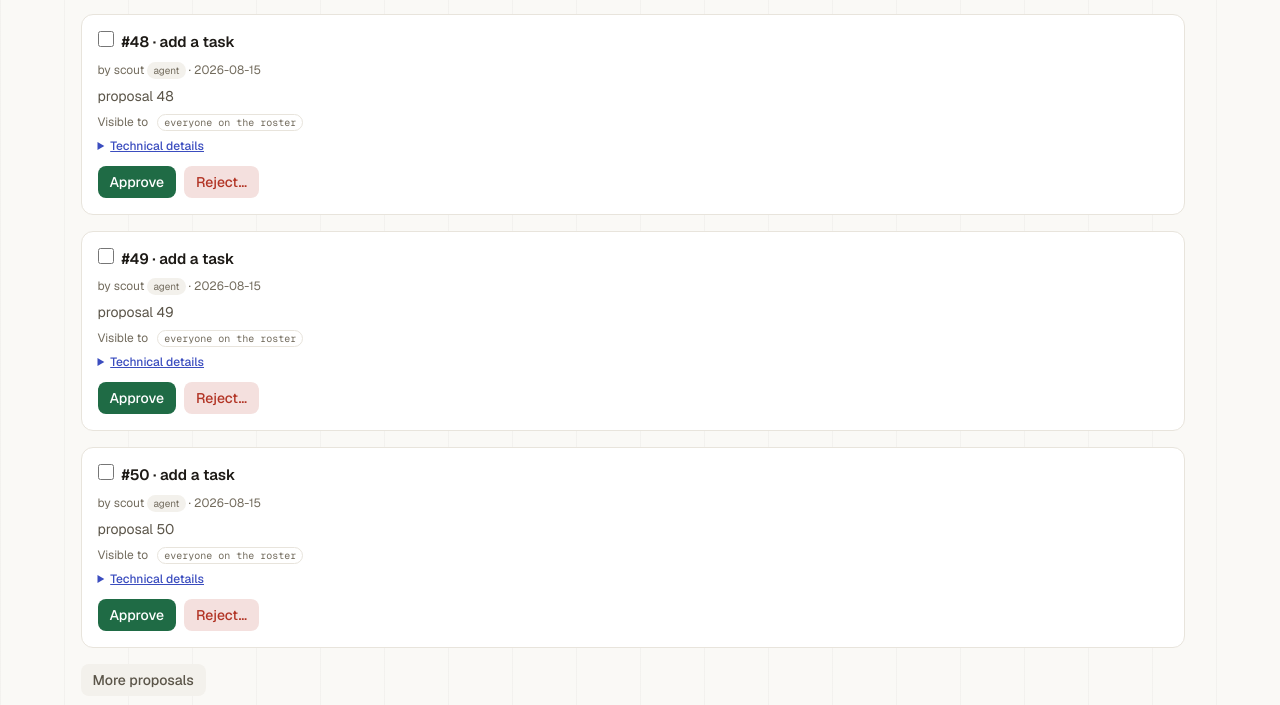
Test: the pending review cursor › keeps the fetched pages after a verdict, and moves focus to the next row
The width and height of the screenshot is (1280, 705).
(page scrolled)
expect the text "proposal 50" is shown: met, box [98,520,174,538]
Click the button "More proposals" at (143, 680), box [80,664,206,696]
(page scrolled)
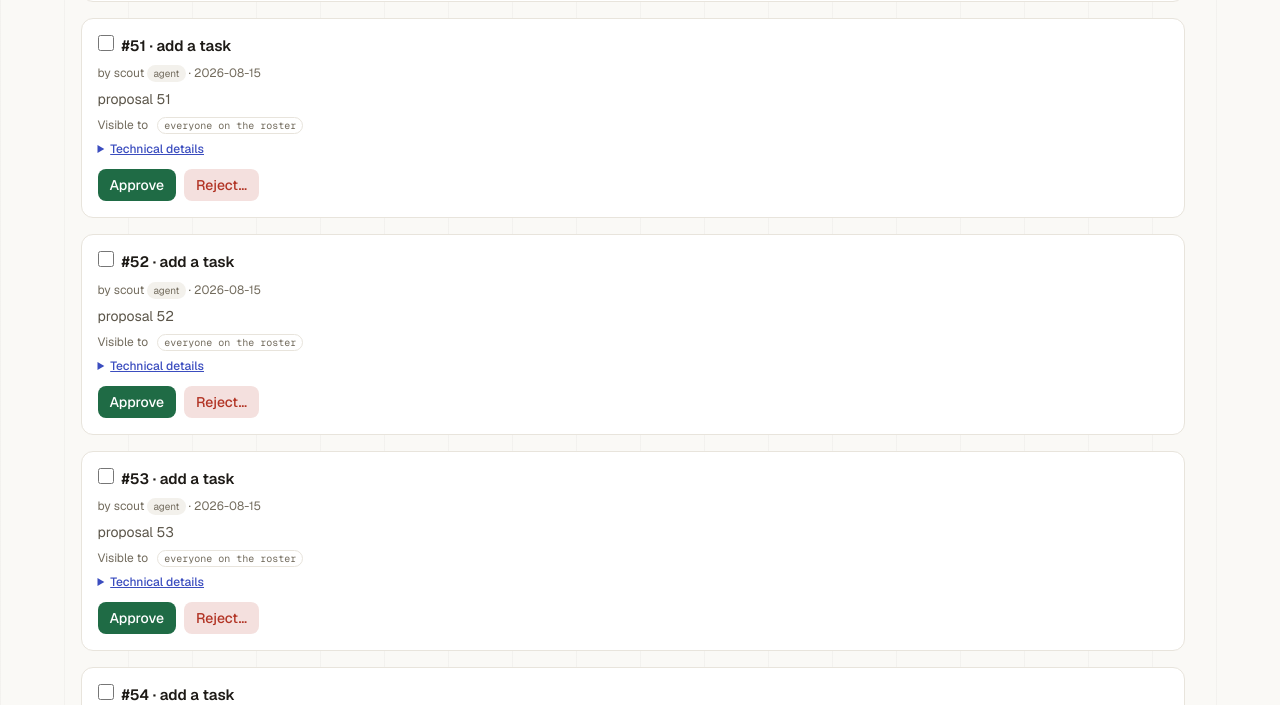
Click the button "Approve" below "proposal 52" at (137, 402), box [98,386,176,418]
(page scrolled)
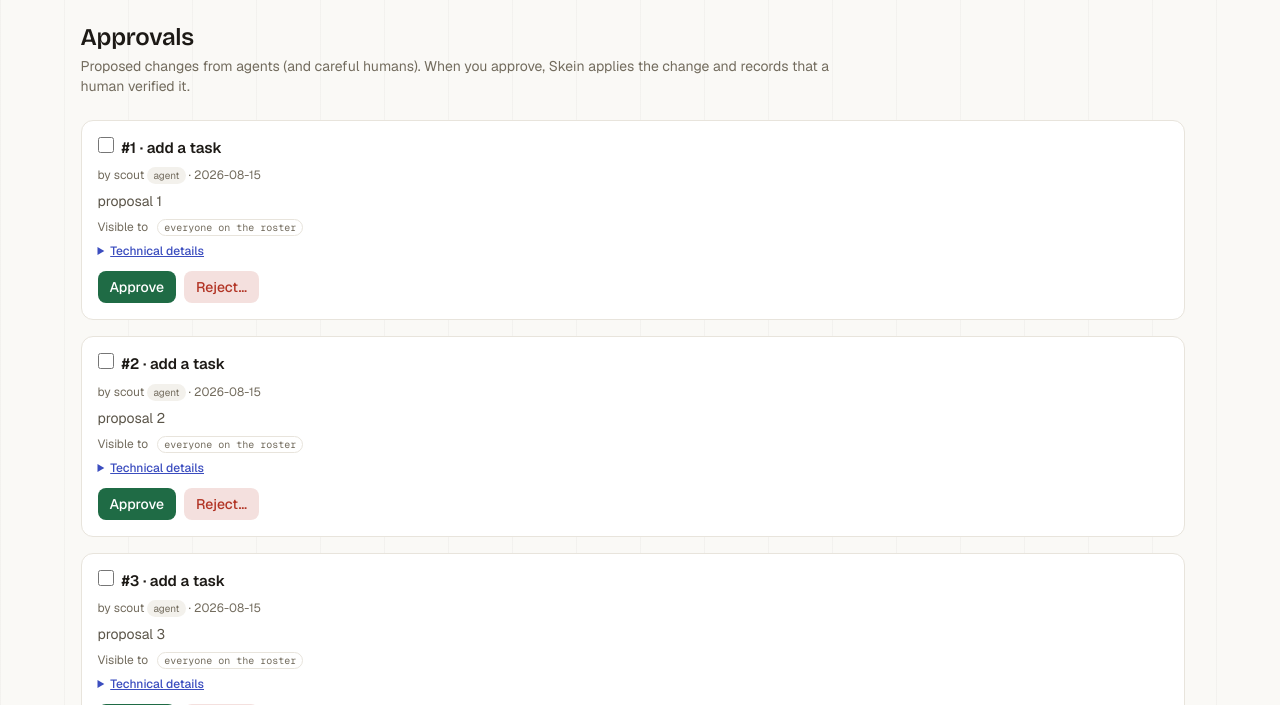
expect the text "proposal 1" is shown: met, box [98,192,162,210]
expect the text "proposal 52" is gone: met
